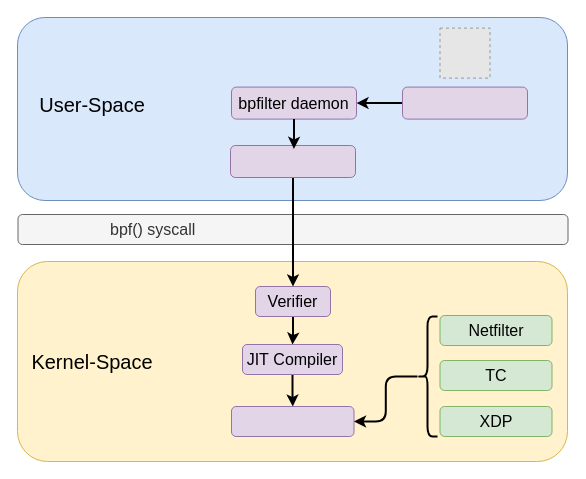
This 586x479 diagram has some shape labels left out. Grey dashed boxes stand in for pictures. Each missing label, with the centre of its shape:
bfcli: the point at 465,102
eBPF bytecode: the point at 293,161
eBPF Program: the point at 292,421
